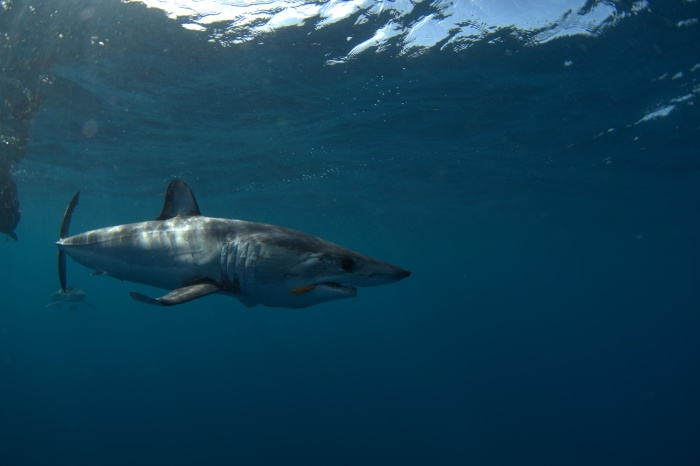Mako: (38, 175, 422, 333)
